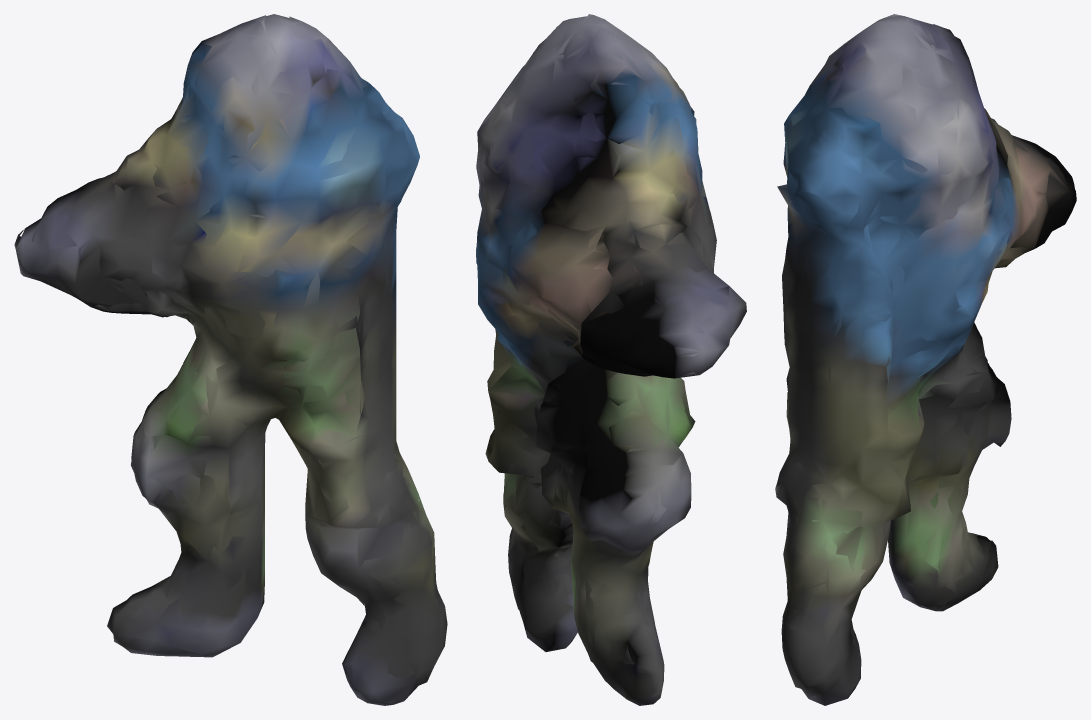
3 views of the same model, side by side, from view 1: azimuth 30°, elevation 25°; view 2: azimuth 150°, elevation 25°; view 3: azimuth 270°, elevation 25° (orthographic). The views are drawn at different scales.
Parts seen in each view (by area): view 1: allied_gi; view 2: allied_gi; view 3: allied_gi.
Boxes of the visible parts, x1,y1,x2,y2 form: allied_gi: (14, 14, 447, 705); allied_gi: (476, 14, 746, 705); allied_gi: (775, 14, 1076, 705).
Bounding box in the file's own units: 1.08 × 2.22 × 0.9355.
